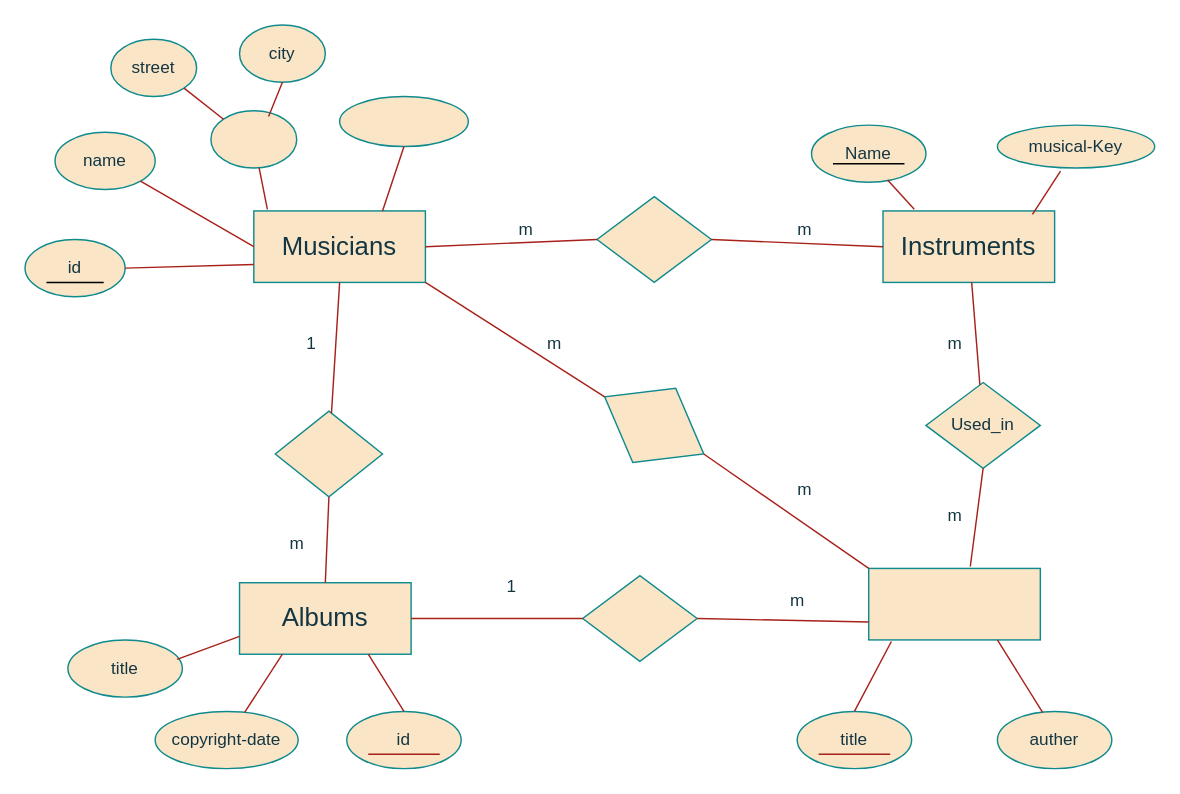
Image size: 1180x794. Some labels were removed from this diagram. Here are the shapes that lost their labels. From the top down, the centre of each, then its label:
the point at 253,138: address
the point at 403,121: phoneNumber
the point at 653,238: Play
the point at 653,424: Perform
the point at 328,453: Produce
the point at 639,617: Has
the point at 953,603: Songs
